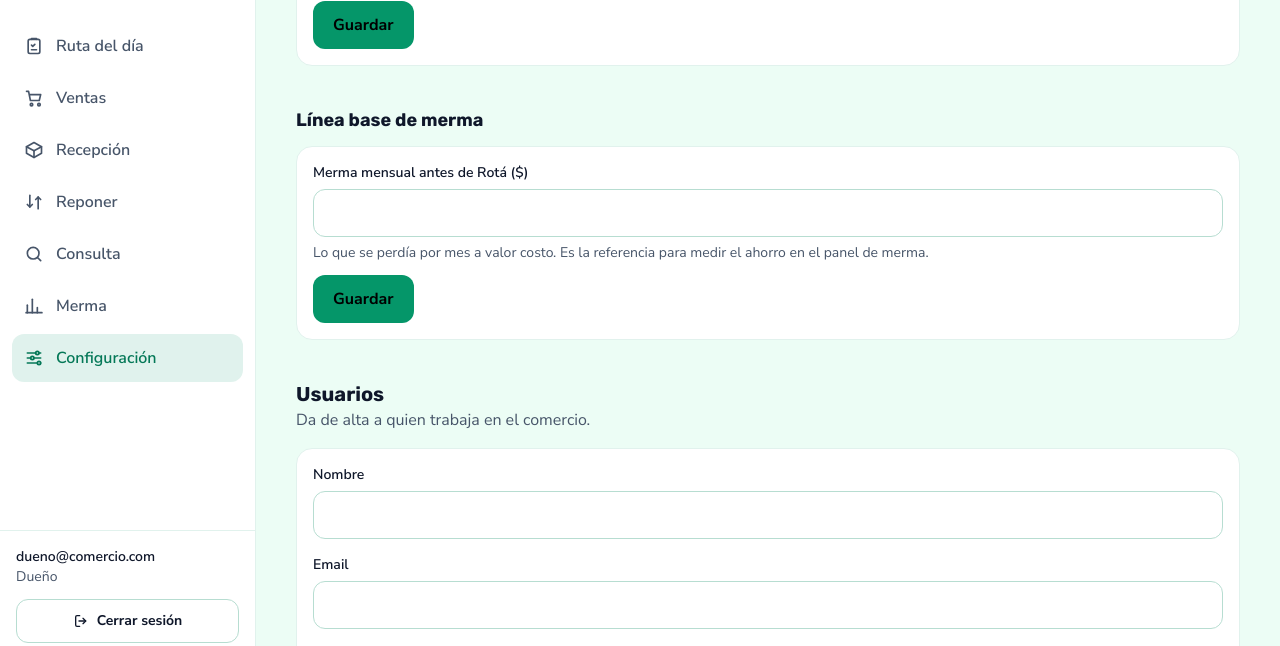
Test: Línea base de merma (HU-26) › rechaza un monto vacío o negativo
(page scrolled)
What coordinates should you click on to do the following:
click the button "Guardar" below "Merma mensual antes de Rotá ($)"
I would click on:
 (363, 299)
Its box is [313, 275, 414, 323].
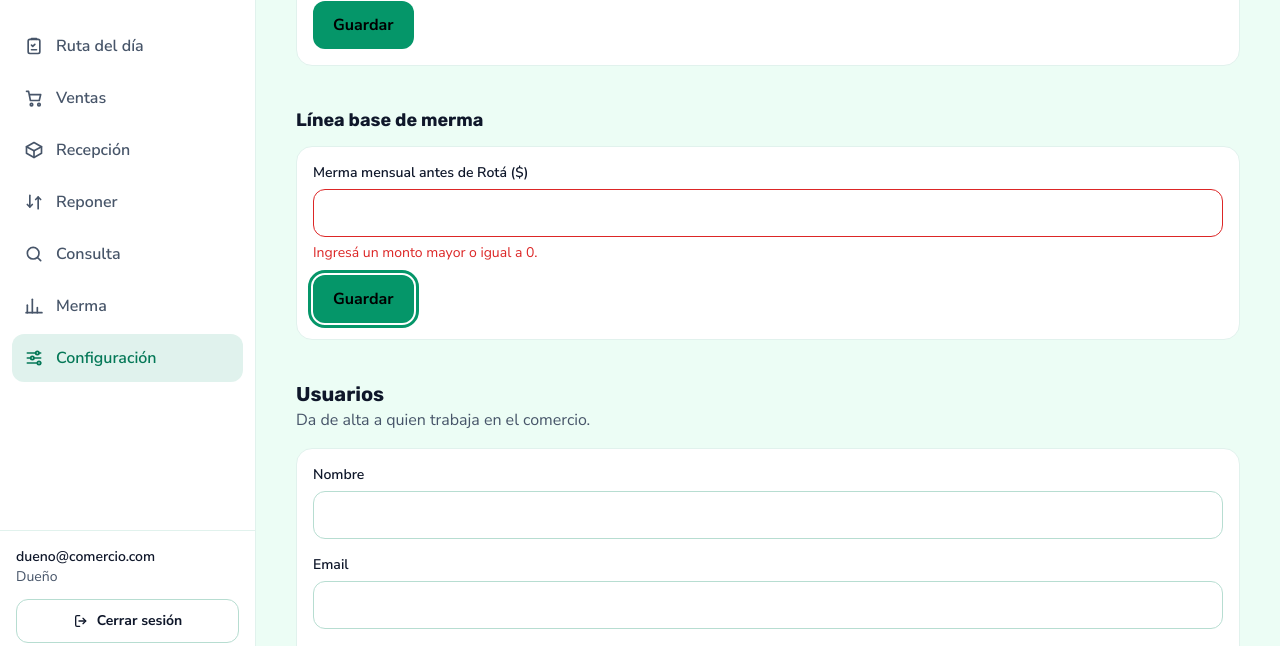
Expected: the text "Ingresá un monto mayor o igual a 0." is shown, [313, 243, 538, 262]
